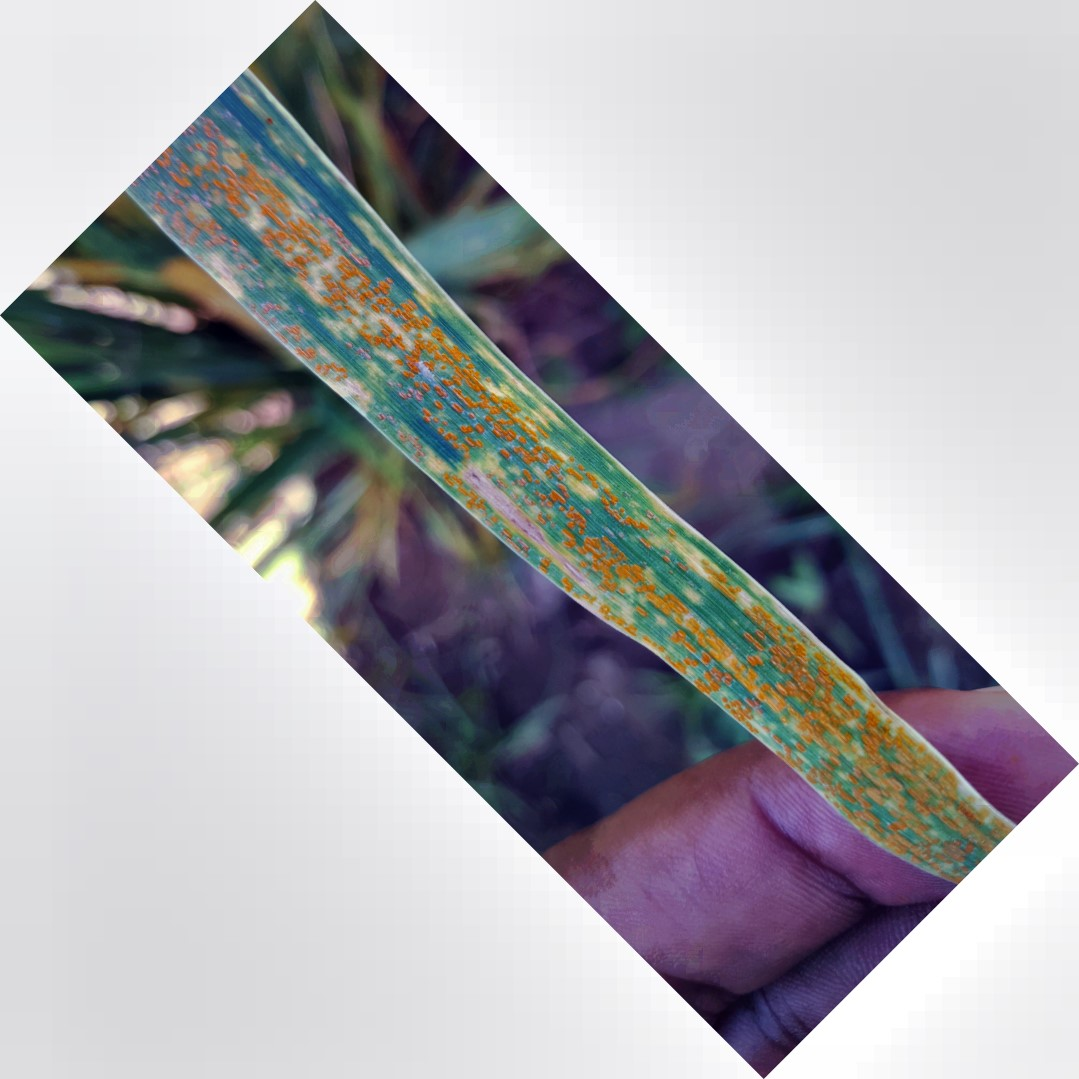Leaf Rust: (211, 152, 934, 842)
